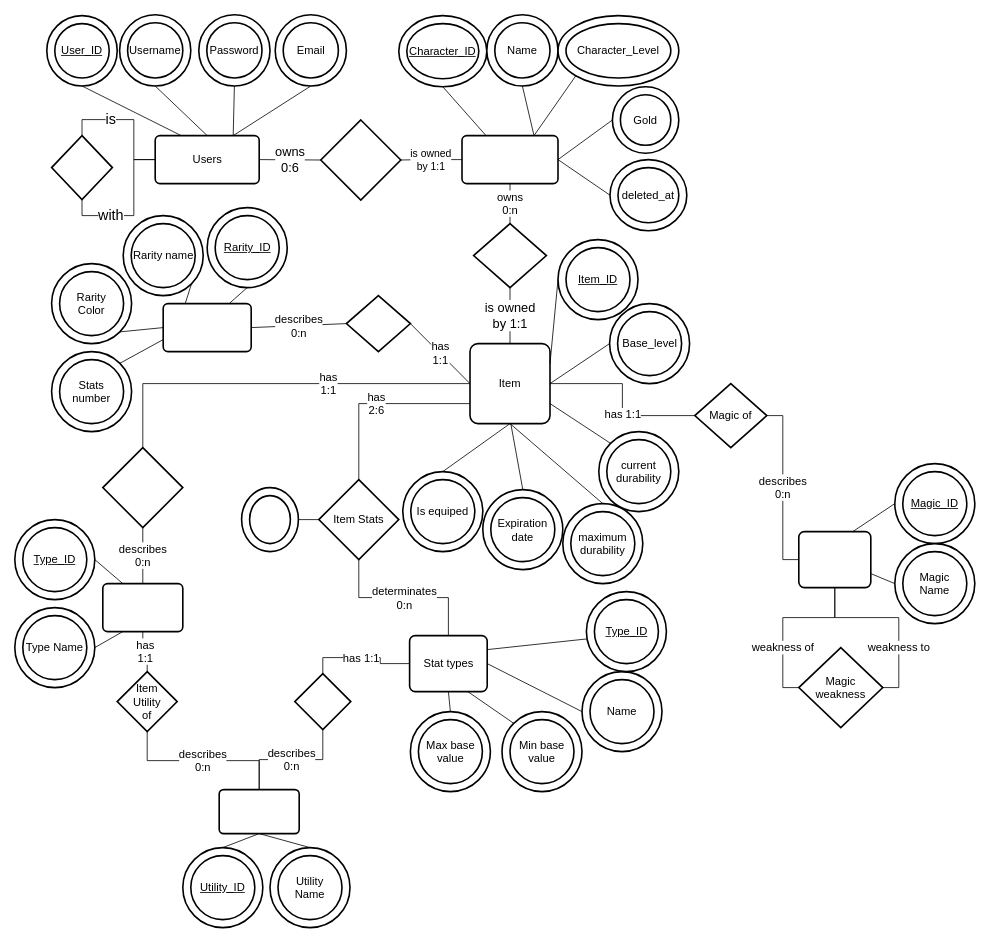
Image size: 989x942. Some labels were removed from this diagram. Each missing label, with the centre of its shape:
Characters: the point at 509,159
friend: the point at 81,167
Has: the point at 360,159
Item Rarity: the point at 207,327
Item Type: the point at 142,607
Magic types: the point at 834,559
Owns: the point at 509,255
Rarity of: the point at 378,323
Stat Utility of: the point at 322,701
Type of: the point at 142,487
Utility: the point at 259,811
Value: the point at 269,519
